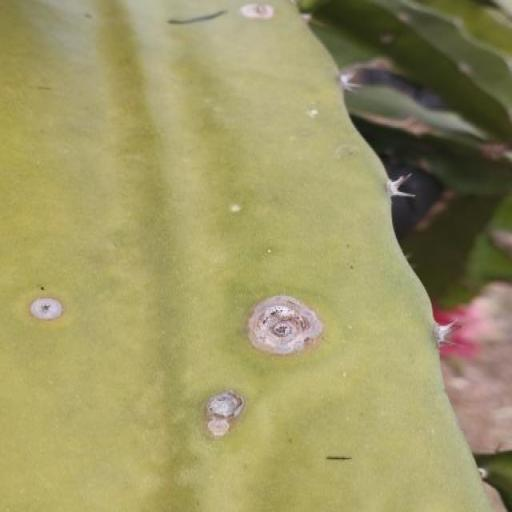stemcanker: (198, 377, 256, 446), (26, 286, 72, 328), (239, 0, 278, 28), (302, 101, 324, 125), (228, 198, 246, 217)
